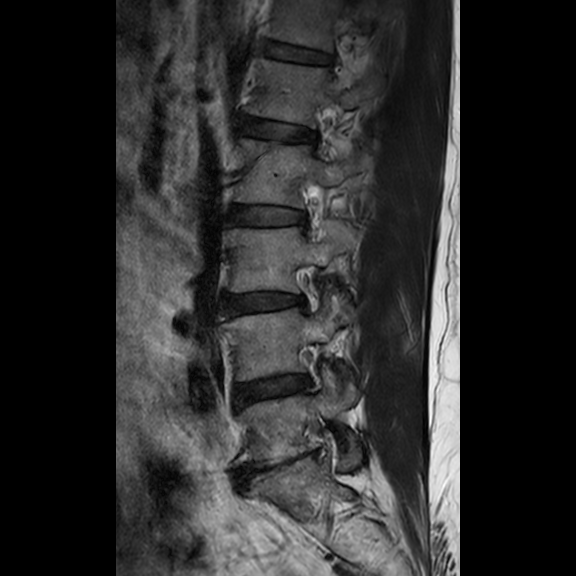RFS0: (286, 252, 329, 324), (284, 337, 331, 400)
